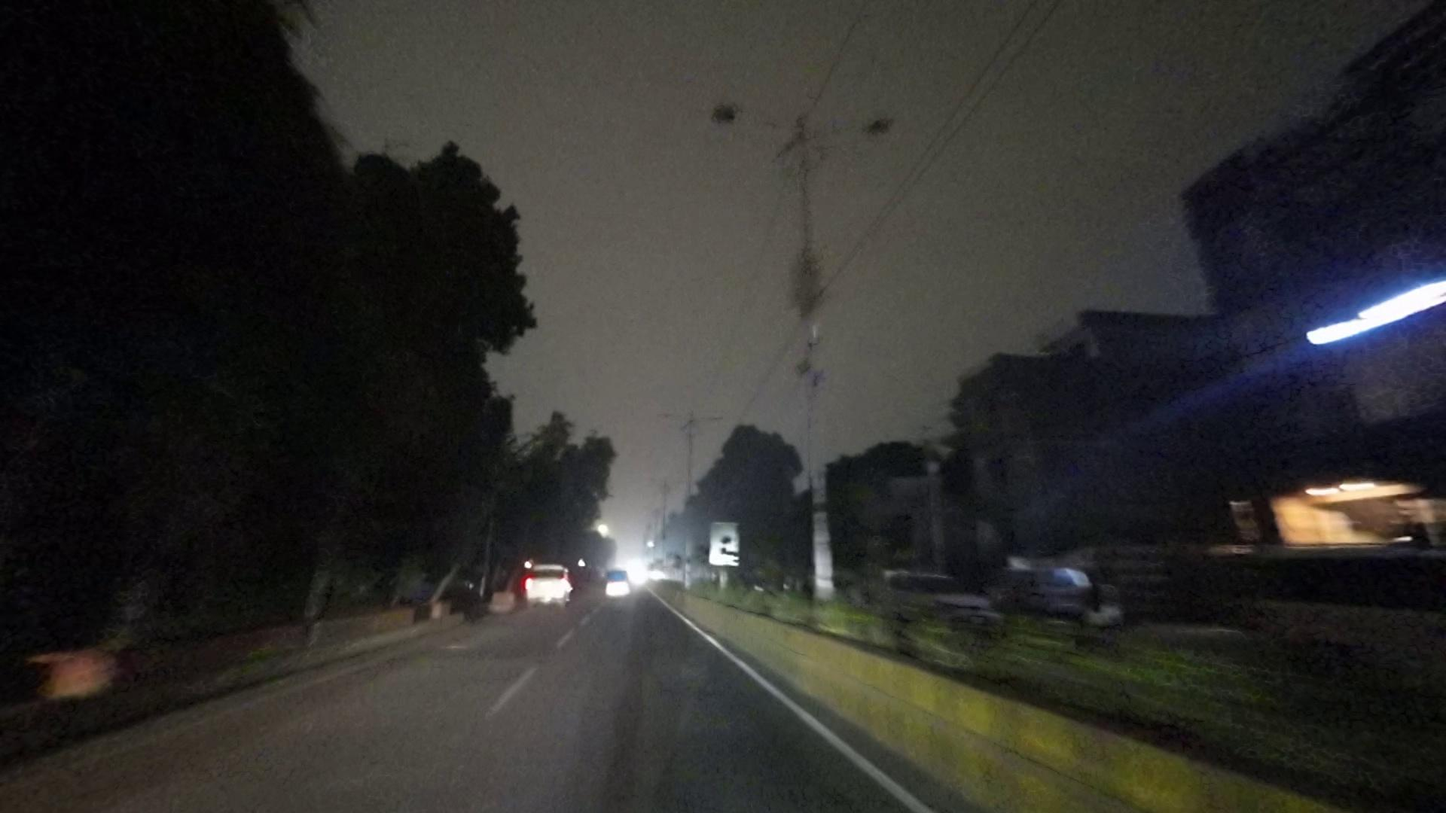streetlight: (708, 96, 793, 139), (817, 114, 899, 142)
